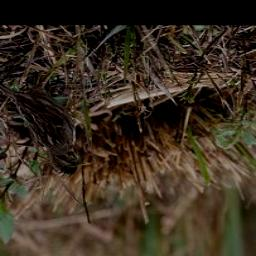Sparrow: (0, 62, 88, 179)
